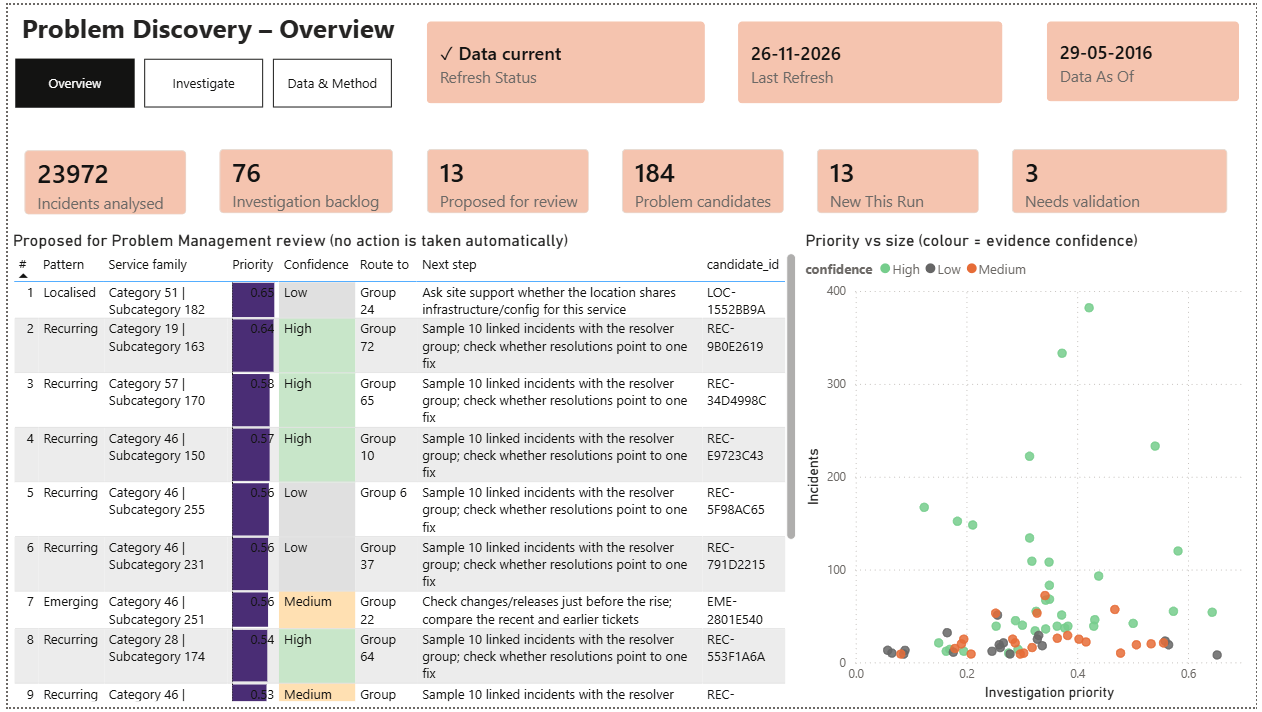

What the dashboard file says about the page in this screenshot:
{"tool":"powerbi","page":{"name":"Overview","canvas":[1280,720],"ordinal":0},"visuals":[{"type":"textbox","box":[9.6,0,403.4,54.9],"z":0},{"type":"cardVisual","fields":{"Data":["refresh_log.Data As Of"]},"box":[1048.7,0,231.3,116.8],"z":1000},{"type":"cardVisual","fields":{"Data":["refresh_log.Last Refresh"]},"box":[731.9,0,305.2,118],"z":2000},{"type":"cardVisual","fields":{"Data":["refresh_log.Refresh Status"]},"box":[413,0,319.7,118],"z":3000},{"type":"cardVisual","fields":{"Data":["fact_incident.Linked Incidents"]},"box":[0,131.9,200,100],"z":4000},{"type":"cardVisual","fields":{"Data":["candidate_register.Candidates"]},"box":[612.8,131.4,200,100],"z":5000},{"type":"cardVisual","fields":{"Data":["candidate_register.Backlog Items"]},"box":[200,131.4,212.8,100],"z":6000},{"type":"cardVisual","fields":{"Data":["candidate_register.New This Run"]},"box":[812.8,131.4,200,100],"z":7000},{"type":"cardVisual","fields":{"Data":["escalation_queue.Proposed Escalations"]},"box":[412.8,131.4,200,100],"z":8000},{"type":"cardVisual","fields":{"Data":["candidate_register.Needs Validation"]},"box":[1012.8,131.4,255.8,100],"z":9000},{"type":"tableEx","title":"Proposed for Problem Management review (no action is taken automatically)","fields":{"Values":["escalation_queue.backlog_rank","escalation_queue.type","escalation_queue.family","candidate_register.priority_score","escalation_queue.confidence","escalation_queue.route_to","escalation_queue.proposed_next_step","candidate_register.candidate_id"]},"box":[0,231.4,812.8,488.4],"z":10000},{"type":"scatterChart","title":"Priority vs size (colour = evidence confidence)","fields":{"Y":["Avg(candidate_register.incidents)"],"Series":["candidate_register.confidence"],"X":["Avg(candidate_register.priority_score)"],"Category":["candidate_register.candidate_id"]},"box":[812.8,231.4,467.4,487.2],"z":11000},{"type":"pageNavigator","box":[8.1,54.7,386,50],"z":12000}]}

Visuals, with their boxes in screenshot pixels (x1, y1, x2, y2), scaled from the page's 1280x720 canvas onto the 1262x712 screenshot:
textbox: locate(9, 0, 407, 54)
cardVisual - refresh_log.Data As Of: locate(1034, 0, 1261, 116)
cardVisual - refresh_log.Last Refresh: locate(722, 0, 1023, 117)
cardVisual - refresh_log.Refresh Status: locate(407, 0, 722, 117)
cardVisual - fact_incident.Linked Incidents: locate(0, 130, 197, 229)
cardVisual - candidate_register.Candidates: locate(604, 130, 801, 229)
cardVisual - candidate_register.Backlog Items: locate(197, 130, 407, 229)
cardVisual - candidate_register.New This Run: locate(801, 130, 999, 229)
cardVisual - escalation_queue.Proposed Escalations: locate(407, 130, 604, 229)
cardVisual - candidate_register.Needs Validation: locate(999, 130, 1251, 229)
"Proposed for Problem Management review (no action is taken automatically)" tableEx: locate(0, 229, 801, 711)
"Priority vs size (colour = evidence confidence)" scatterChart: locate(801, 229, 1261, 711)
pageNavigator: locate(8, 54, 389, 104)
